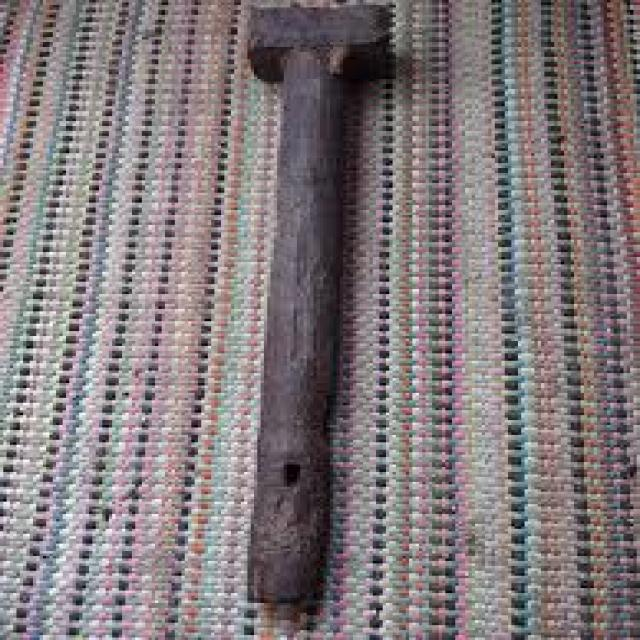hammer: (208, 0, 416, 623)
